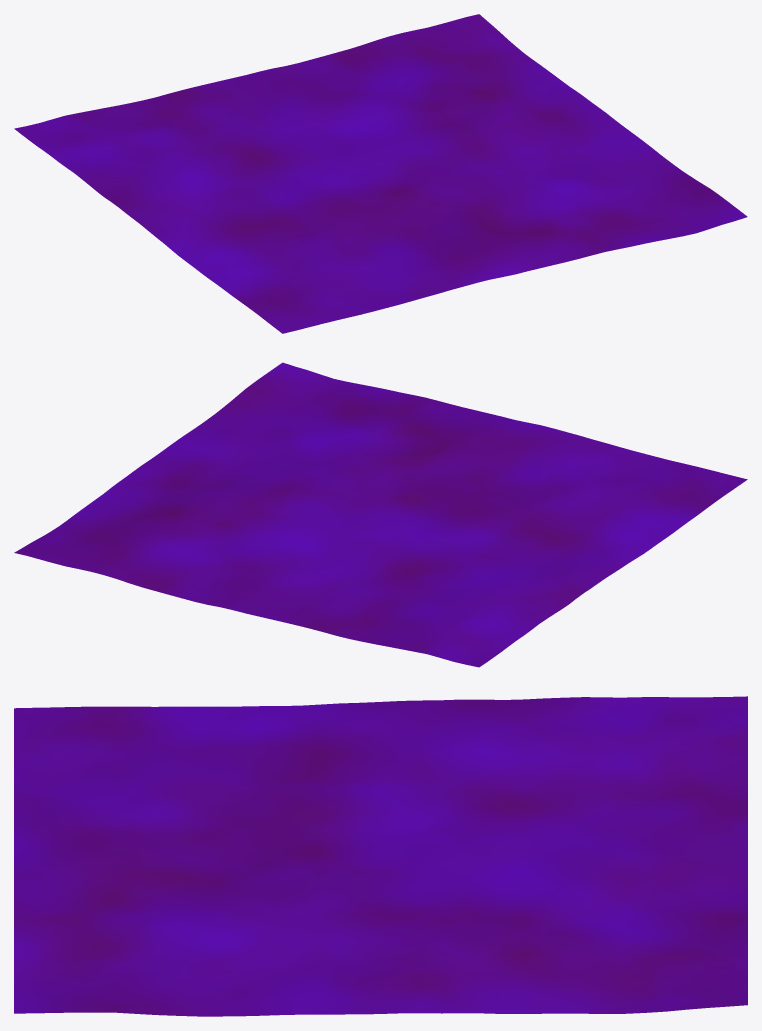
The model's file is ground_22.glb.
3 views of the same model, one above another, from view 1: azimuth 30°, elevation 25°; view 2: azimuth 150°, elevation 25°; view 3: azimuth 270°, elevation 25° (orthographic). The views are drawn at different scales.
Visible parts, largest first — view 1: Ground_22; view 2: Ground_22; view 3: Ground_22.
Part boxes in pixels (x1,y1,x2,y2): Ground_22: [14, 14, 747, 333]; Ground_22: [14, 362, 747, 667]; Ground_22: [14, 696, 747, 1016].
Size of what is drawn, in the model's own units: 36 by 0.756 by 36.
